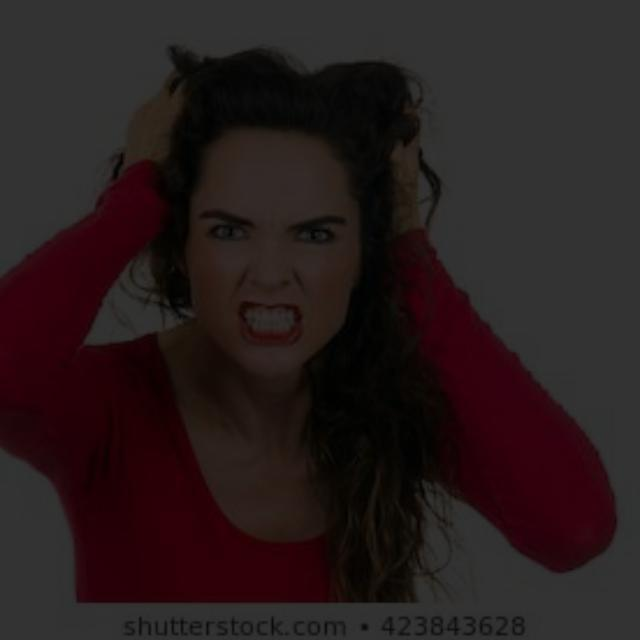angry: (143, 97, 420, 414)
